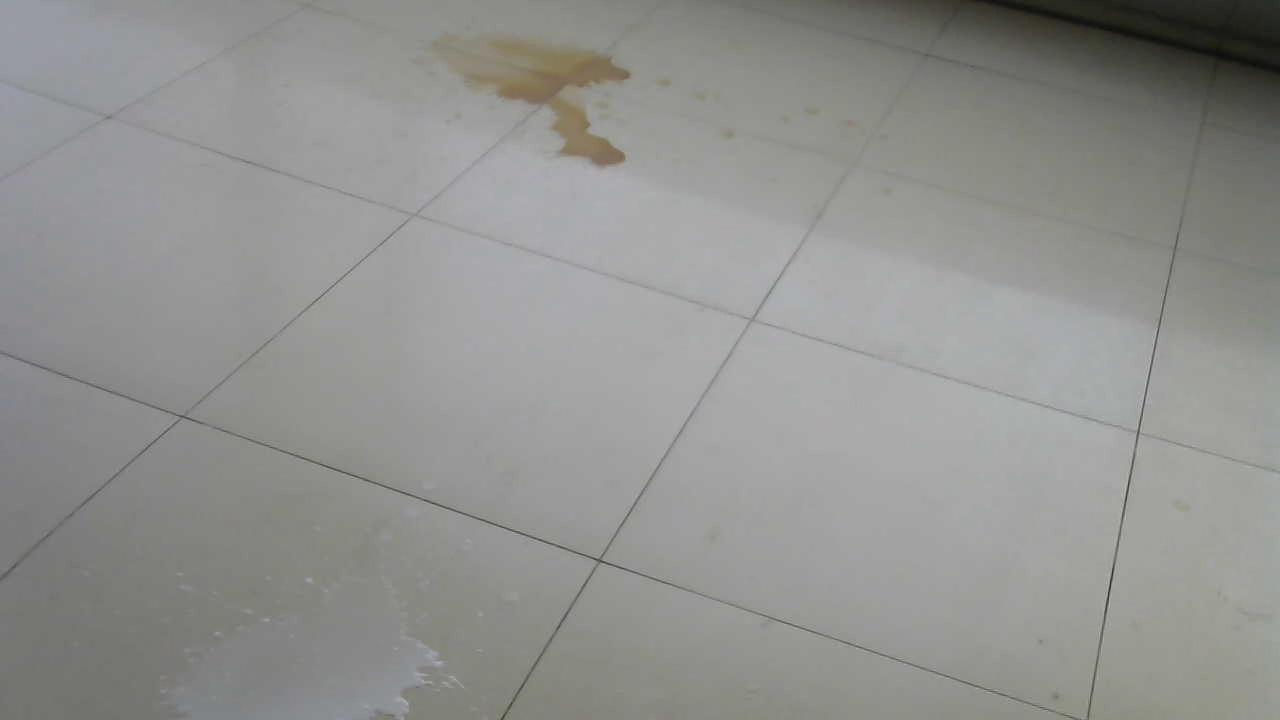dirty_floor: (142, 564, 470, 716), (418, 26, 641, 178)
